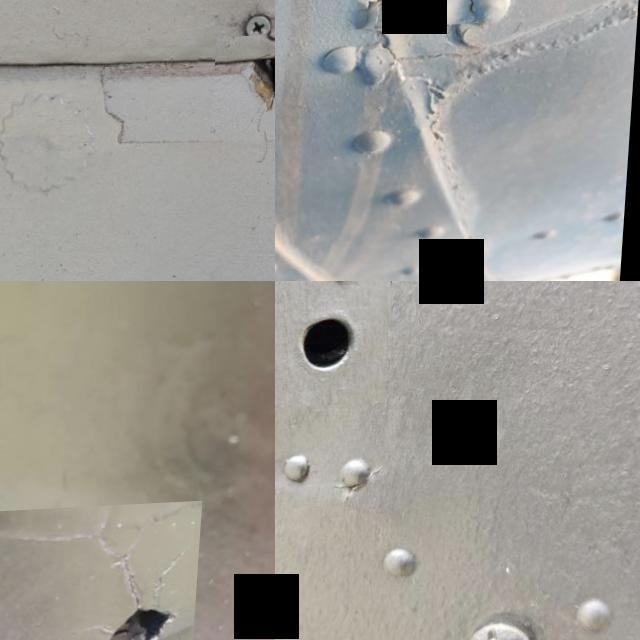Crack: (0, 505, 206, 640), (215, 36, 275, 137), (360, 0, 490, 33)
Missing_Fastener: (275, 281, 395, 411)
